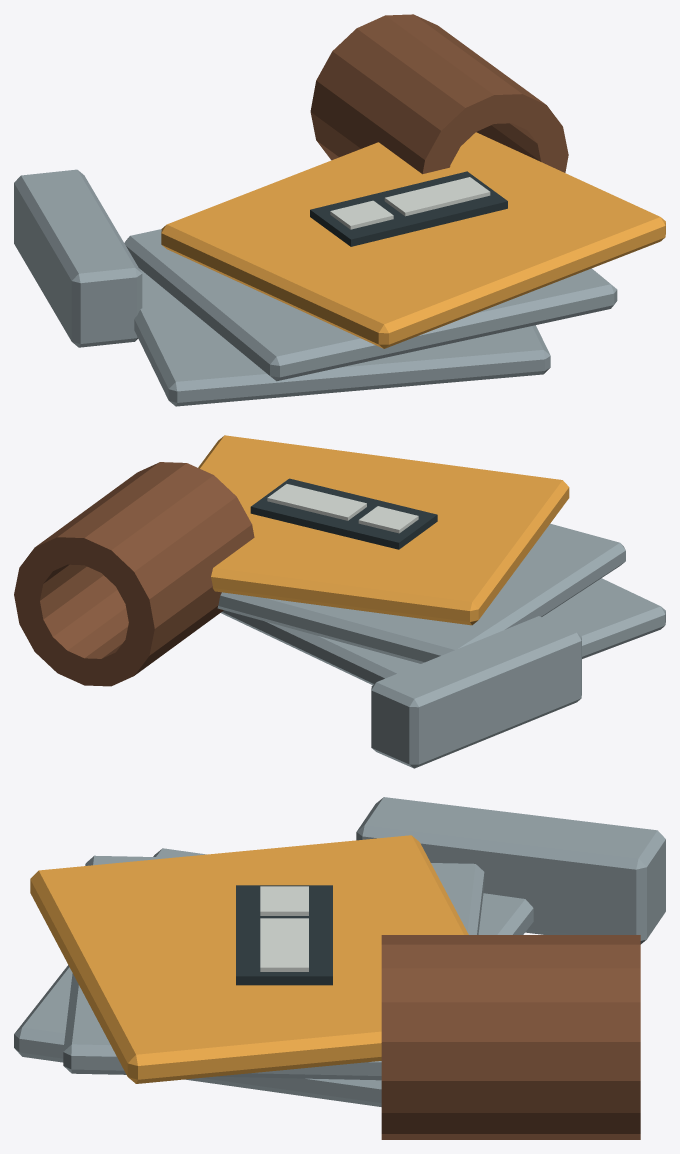
File: materials_depleted_1.glb
The picture shows the model from 3 angles, top to bottom: view 1: azimuth 30°, elevation 25°; view 2: azimuth 150°, elevation 25°; view 3: azimuth 270°, elevation 25°; orthographic projection. The views are drawn at different scales.
Parts seen in each view (by area): view 1: materials_depleted_1; view 2: materials_depleted_1; view 3: materials_depleted_1.
Part boxes in pixels (box(x1,y1,x2,y2)): materials_depleted_1: box(14, 14, 665, 406); materials_depleted_1: box(14, 435, 665, 768); materials_depleted_1: box(14, 797, 665, 1139).
Size of the model in its own units: 0.6299 by 0.19 by 0.6041.
